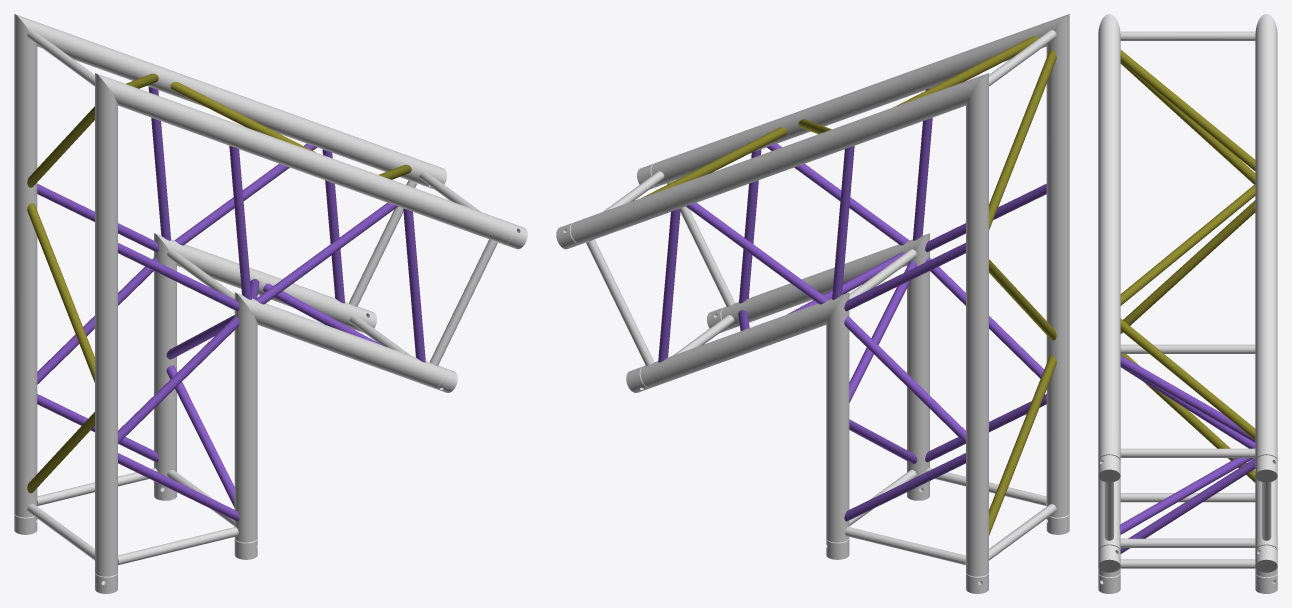
The picture shows the model from 3 angles, left to right: view 1: azimuth 30°, elevation 25°; view 2: azimuth 150°, elevation 25°; view 3: azimuth 270°, elevation 25°; orthographic projection. The views are drawn at different scales.
Parts seen in each view (by area): view 1: 260030440; view 2: 260030440; view 3: 260030440.
Boxes of the visible parts, x1,y1,x2,y2 form: 260030440: [14, 14, 527, 593]; 260030440: [556, 14, 1069, 593]; 260030440: [1098, 14, 1277, 593].
Size of the model in its own units: 1.04 by 1.2 by 0.3873.
